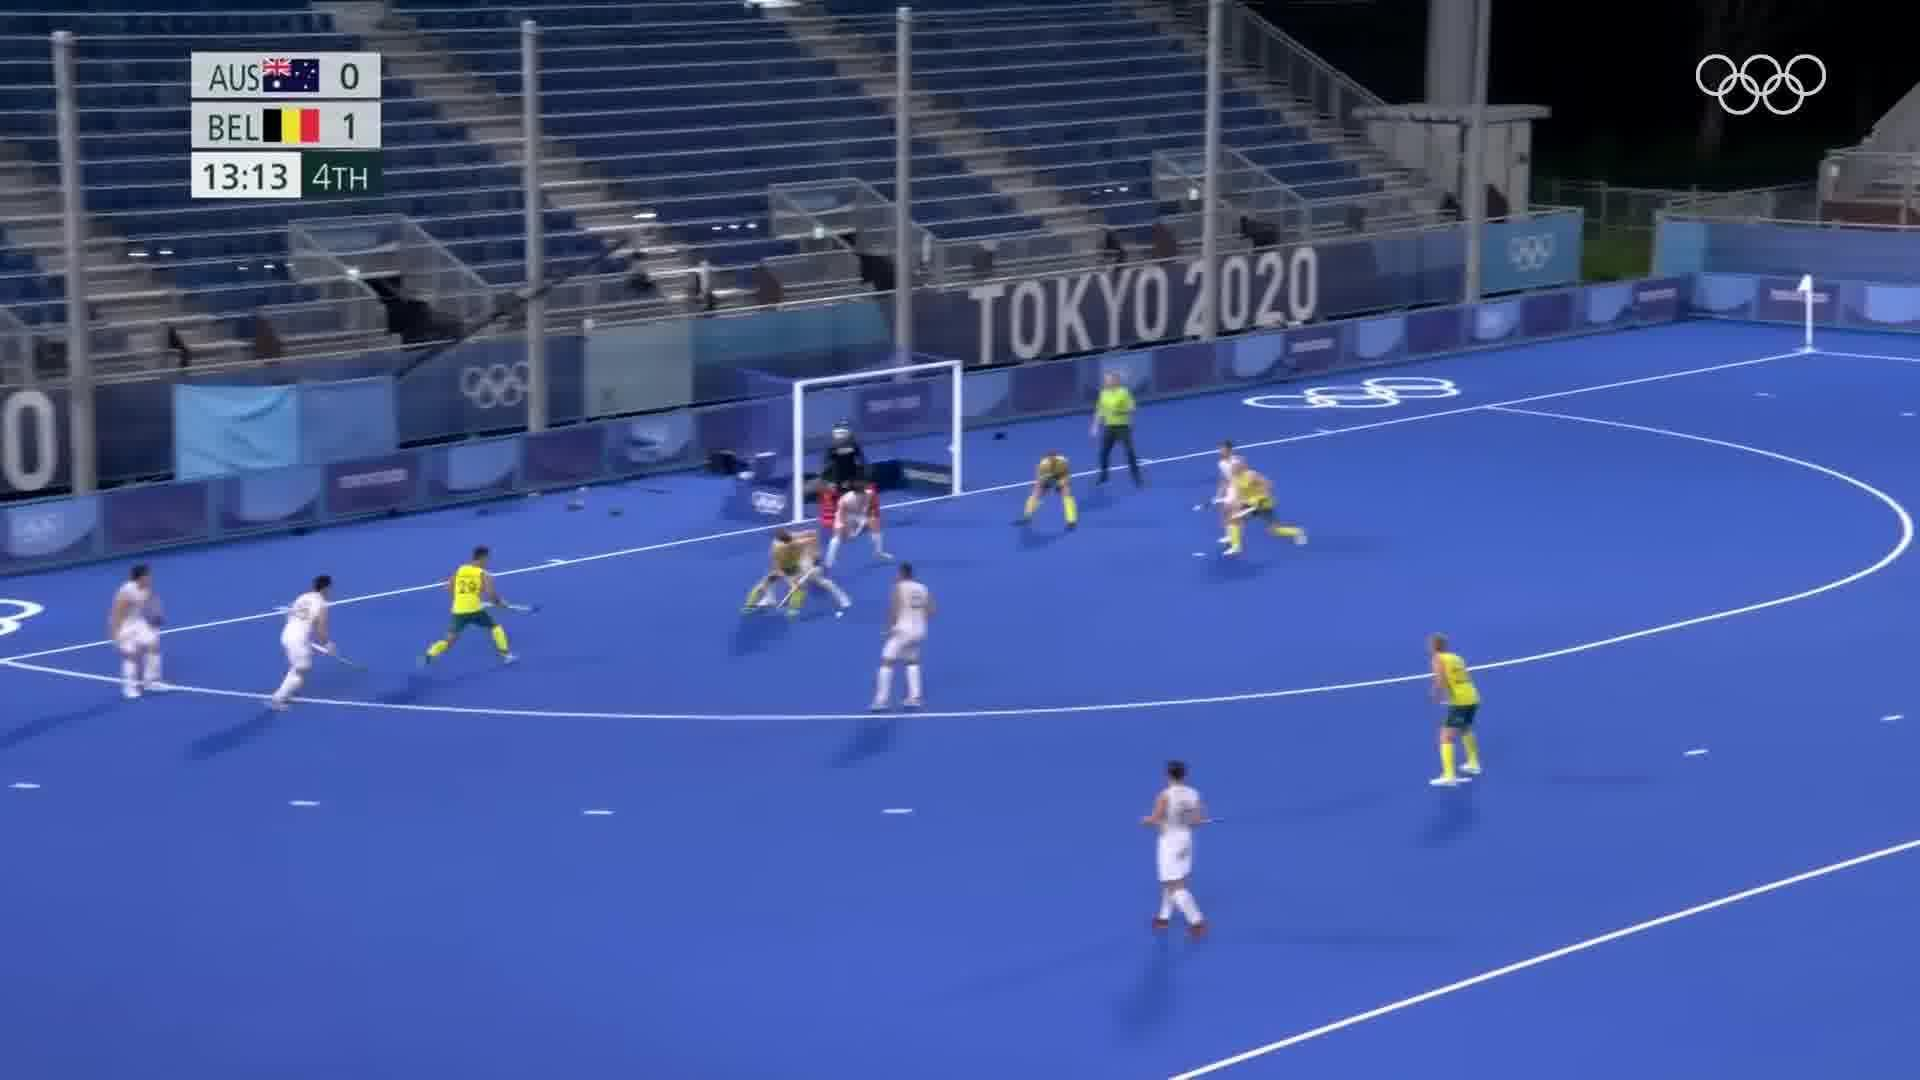ball: (829, 609, 847, 621)
